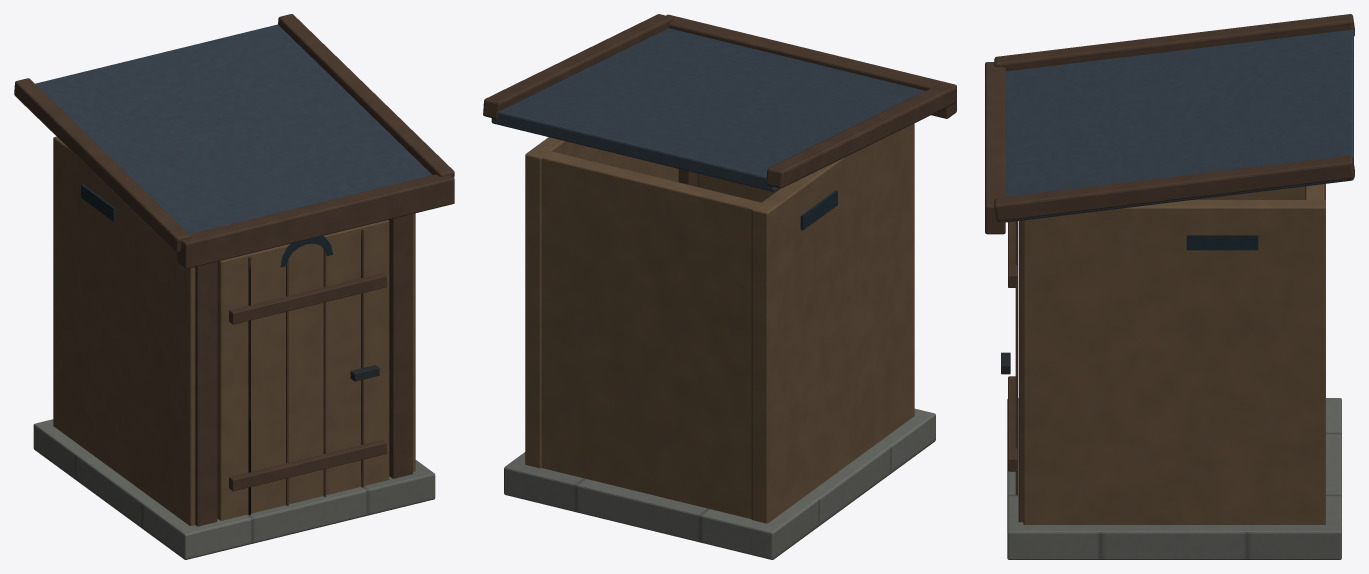
The model's file is Outhouse.fbx.
3 views of the same model, side by side, from view 1: azimuth 30°, elevation 25°; view 2: azimuth 150°, elevation 25°; view 3: azimuth 270°, elevation 25° (orthographic). The views are drawn at different scales.
Visible parts, largest first — view 1: Outhouse.001; view 2: Outhouse.001; view 3: Outhouse.001.
Boxes of the visible parts, x1,y1,x2,y2 form: Outhouse.001: (14,14,454,559); Outhouse.001: (483,14,956,559); Outhouse.001: (985,14,1354,559).
Bounding box in the file's own units: 2.22 × 2.81 × 2.32.
